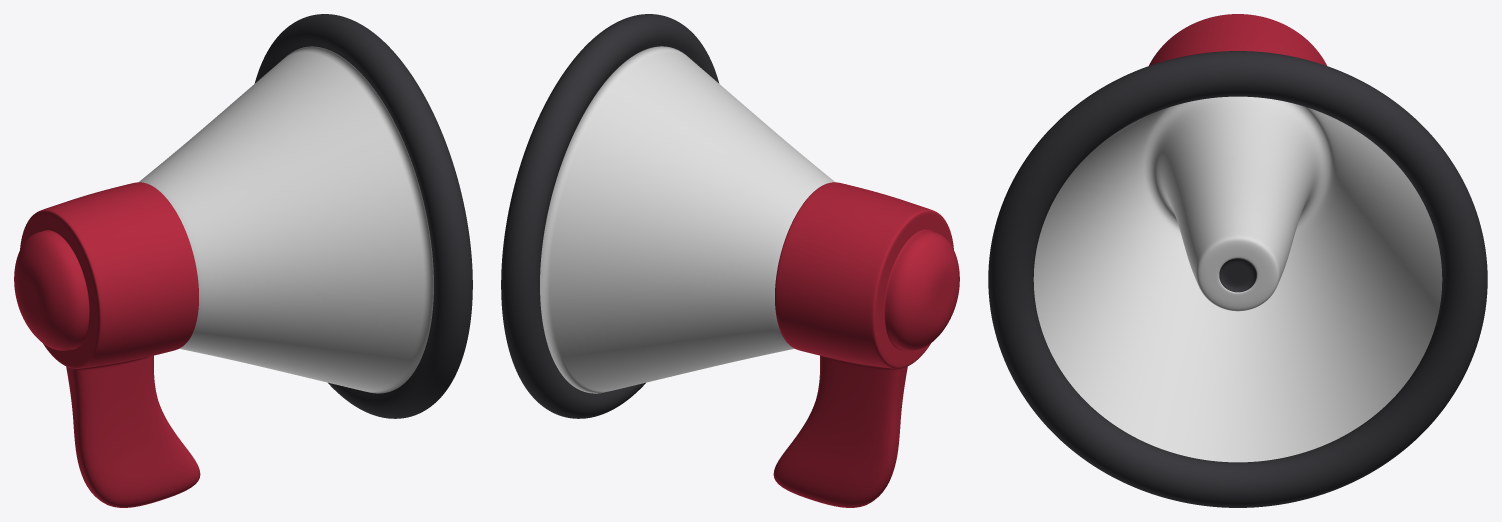
Rendered from megaphone.glb.
The picture shows the model from 3 angles, left to right: view 1: azimuth 30°, elevation 25°; view 2: azimuth 150°, elevation 25°; view 3: azimuth 270°, elevation 25°; orthographic projection. The views are drawn at different scales.
Visible parts, largest first — view 1: Annoucement; view 2: Annoucement; view 3: Annoucement.
Boxes of the visible parts, x1,y1,x2,y2 form: Annoucement: (14,14,472,507); Annoucement: (501,14,959,507); Annoucement: (988,14,1487,507).
Size of the model in its own units: 1.61 by 1.87 by 1.67.
